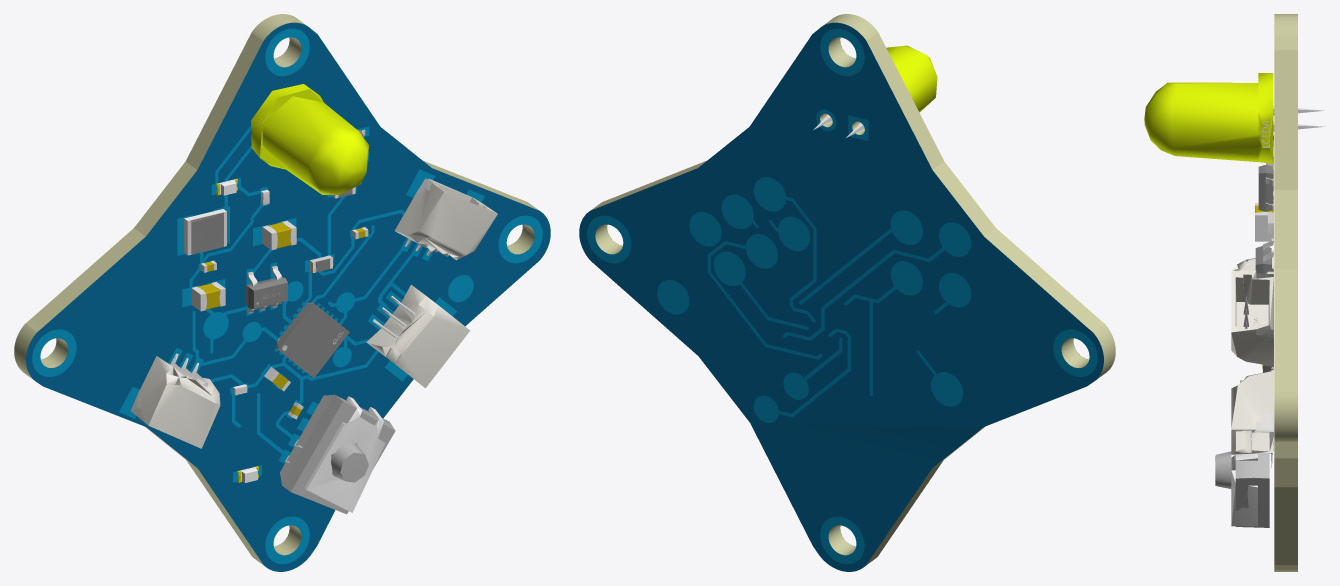
3 renders of one model, left to right at view 1: azimuth 30°, elevation 25°; view 2: azimuth 150°, elevation 25°; view 3: azimuth 270°, elevation 25°, orthographic.
Visible parts, largest first — view 1: v2; view 2: v2; view 3: v2.
Part boxes in pixels (left/top/right/bottom): v2: left=14, top=14, right=550, bottom=571; v2: left=579, top=14, right=1115, bottom=571; v2: left=1144, top=14, right=1324, bottom=571.
Size of the model in its own units: 41.38 by 41.27 by 12.31.
